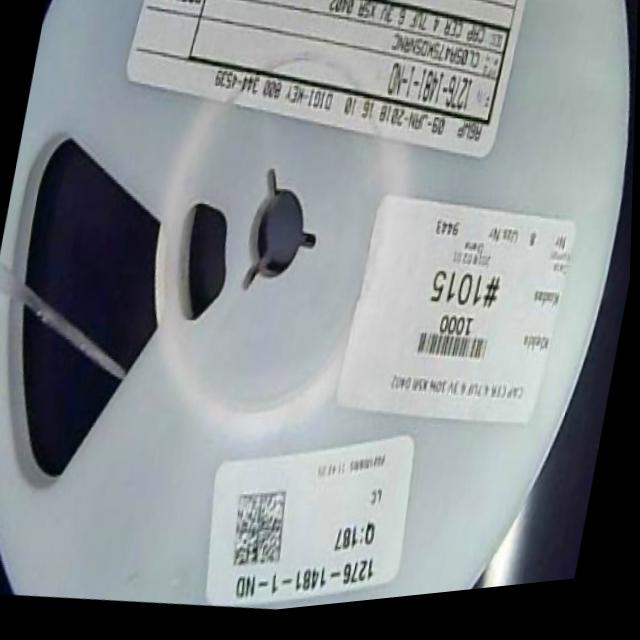datamatrix: (227, 490, 298, 581)
